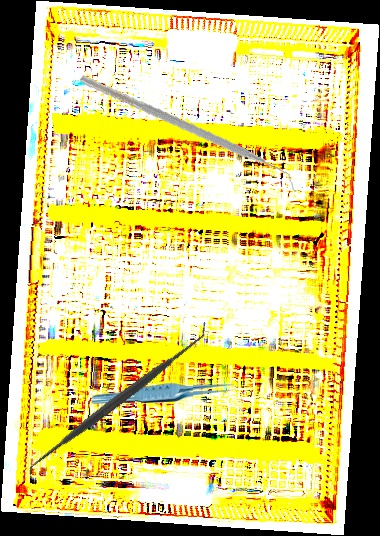Chopper: (78, 51, 298, 219)
Spatula Surgical: (17, 319, 219, 481)
Tissue Forceps: (91, 381, 237, 406)
